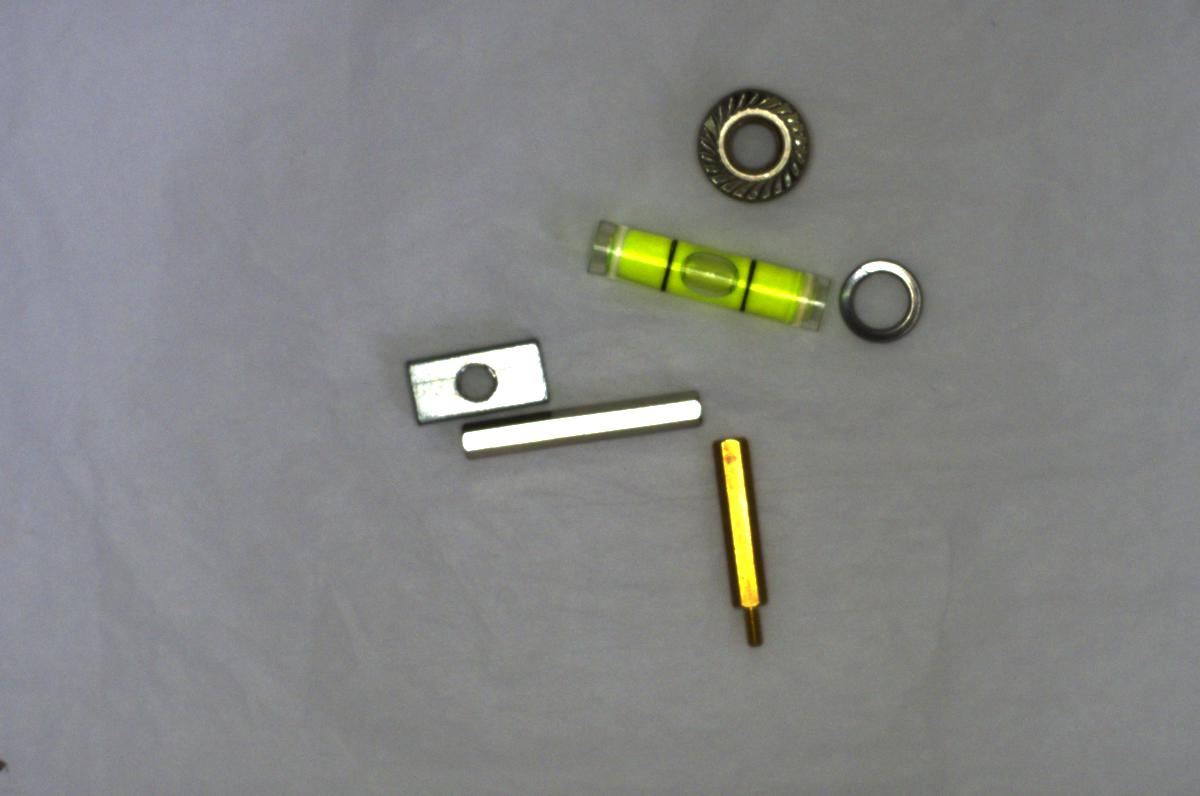Double hexagonal column: (455, 385, 710, 459)
Flange nut: (684, 78, 815, 209)
Hexagon pillar: (701, 429, 774, 655)
Horizontal bubble: (578, 213, 840, 333)
Rectangular nut: (402, 329, 555, 423)
Spring washer: (830, 253, 930, 347)
